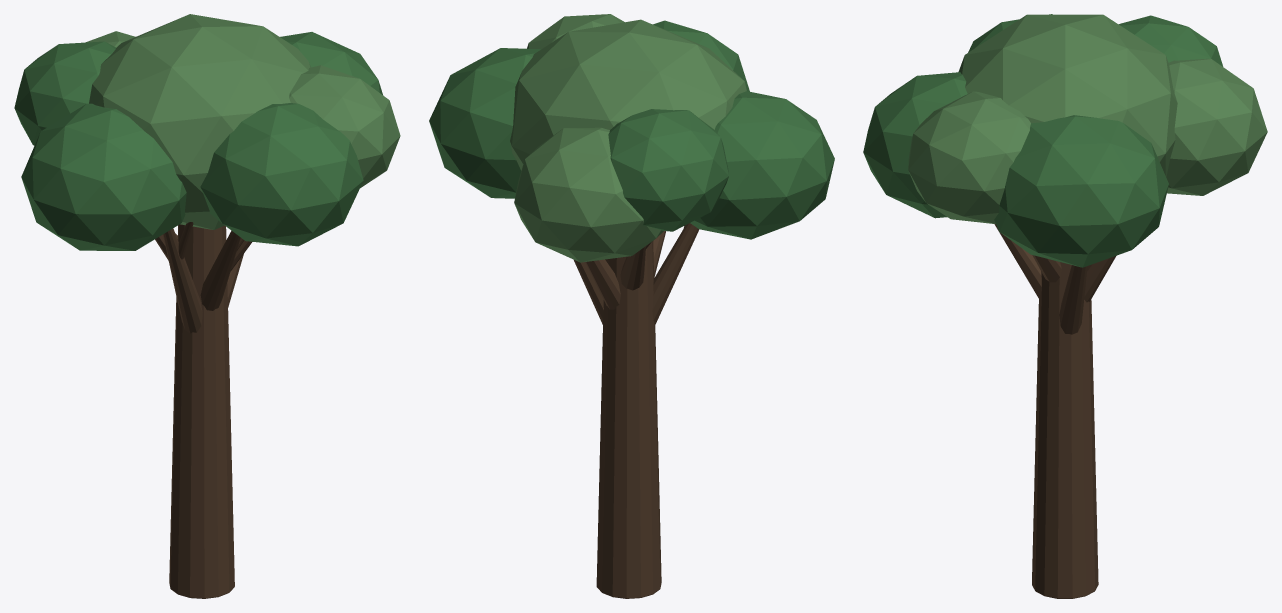
The model's file is Tree_Shade.fbx.
3 views of the same model, side by side, from view 1: azimuth 30°, elevation 25°; view 2: azimuth 150°, elevation 25°; view 3: azimuth 270°, elevation 25° (orthographic).
Parts seen in each view (by area): view 1: Shade tree crown.007, Shade tree trunk.001, Shade tree crown.008, Shade tree crown.011, Shade tree crown.013, Shade tree crown.012, Shade tree crown.009, Shade tree main branch.006, Shade tree main branch.007; view 2: Shade tree crown.007, Shade tree trunk.001, Shade tree crown.008, Shade tree crown.010, Shade tree crown.012, Shade tree crown.009, Shade tree main branch.006, Shade tree crown.013, Shade tree crown.011, Shade tree main branch.010, Shade tree main branch.011, Shade tree main branch.009; view 3: Shade tree crown.009, Shade tree crown.007, Shade tree trunk.001, Shade tree crown.013, Shade tree crown.010, Shade tree crown.011, Shade tree crown.012, Shade tree main branch.009, Shade tree main branch.007, Shade tree main branch.010.
Part boxes in pixels (bbox=[...]): Shade tree crown.007: bbox=[89, 14, 310, 229]; Shade tree trunk.001: bbox=[169, 224, 234, 598]; Shade tree crown.008: bbox=[21, 103, 186, 250]; Shade tree crown.011: bbox=[200, 103, 363, 246]; Shade tree crown.013: bbox=[289, 65, 400, 188]; Shade tree crown.012: bbox=[14, 41, 115, 145]; Shade tree crown.009: bbox=[280, 32, 382, 94]; Shade tree main branch.006: bbox=[163, 228, 202, 333]; Shade tree main branch.007: bbox=[200, 230, 240, 310]; Shade tree crown.007: bbox=[510, 19, 746, 170]; Shade tree trunk.001: bbox=[596, 241, 661, 598]; Shade tree crown.008: bbox=[690, 91, 834, 239]; Shade tree crown.010: bbox=[514, 127, 663, 262]; Shade tree crown.012: bbox=[608, 109, 728, 231]; Shade tree crown.009: bbox=[429, 48, 540, 198]; Shade tree main branch.006: bbox=[652, 223, 699, 325]; Shade tree crown.013: bbox=[527, 14, 624, 49]; Shade tree crown.011: bbox=[653, 20, 749, 91]; Shade tree main branch.010: bbox=[585, 259, 620, 309]; Shade tree main branch.011: bbox=[620, 246, 645, 290]; Shade tree main branch.009: bbox=[574, 260, 603, 324]; Shade tree crown.009: bbox=[994, 115, 1168, 267]; Shade tree crown.007: bbox=[958, 14, 1177, 177]; Shade tree trunk.001: bbox=[1032, 262, 1098, 598]; Shade tree crown.013: bbox=[908, 91, 1030, 224]; Shade tree crown.010: bbox=[1166, 58, 1267, 195]; Shade tree crown.011: bbox=[863, 72, 967, 218]; Shade tree crown.012: bbox=[1118, 15, 1223, 66]; Shade tree main branch.009: bbox=[1059, 265, 1087, 334]; Shade tree main branch.007: bbox=[994, 224, 1041, 299]; Shade tree main branch.010: bbox=[1084, 255, 1116, 302].
Bounding box in the file's own units: 7.32 × 10.75 × 7.03.
